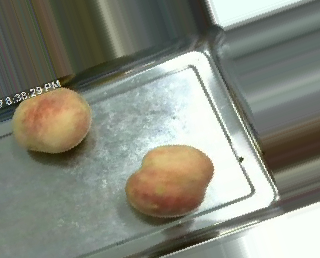Peach: (125, 143, 214, 217), (12, 85, 92, 154)
